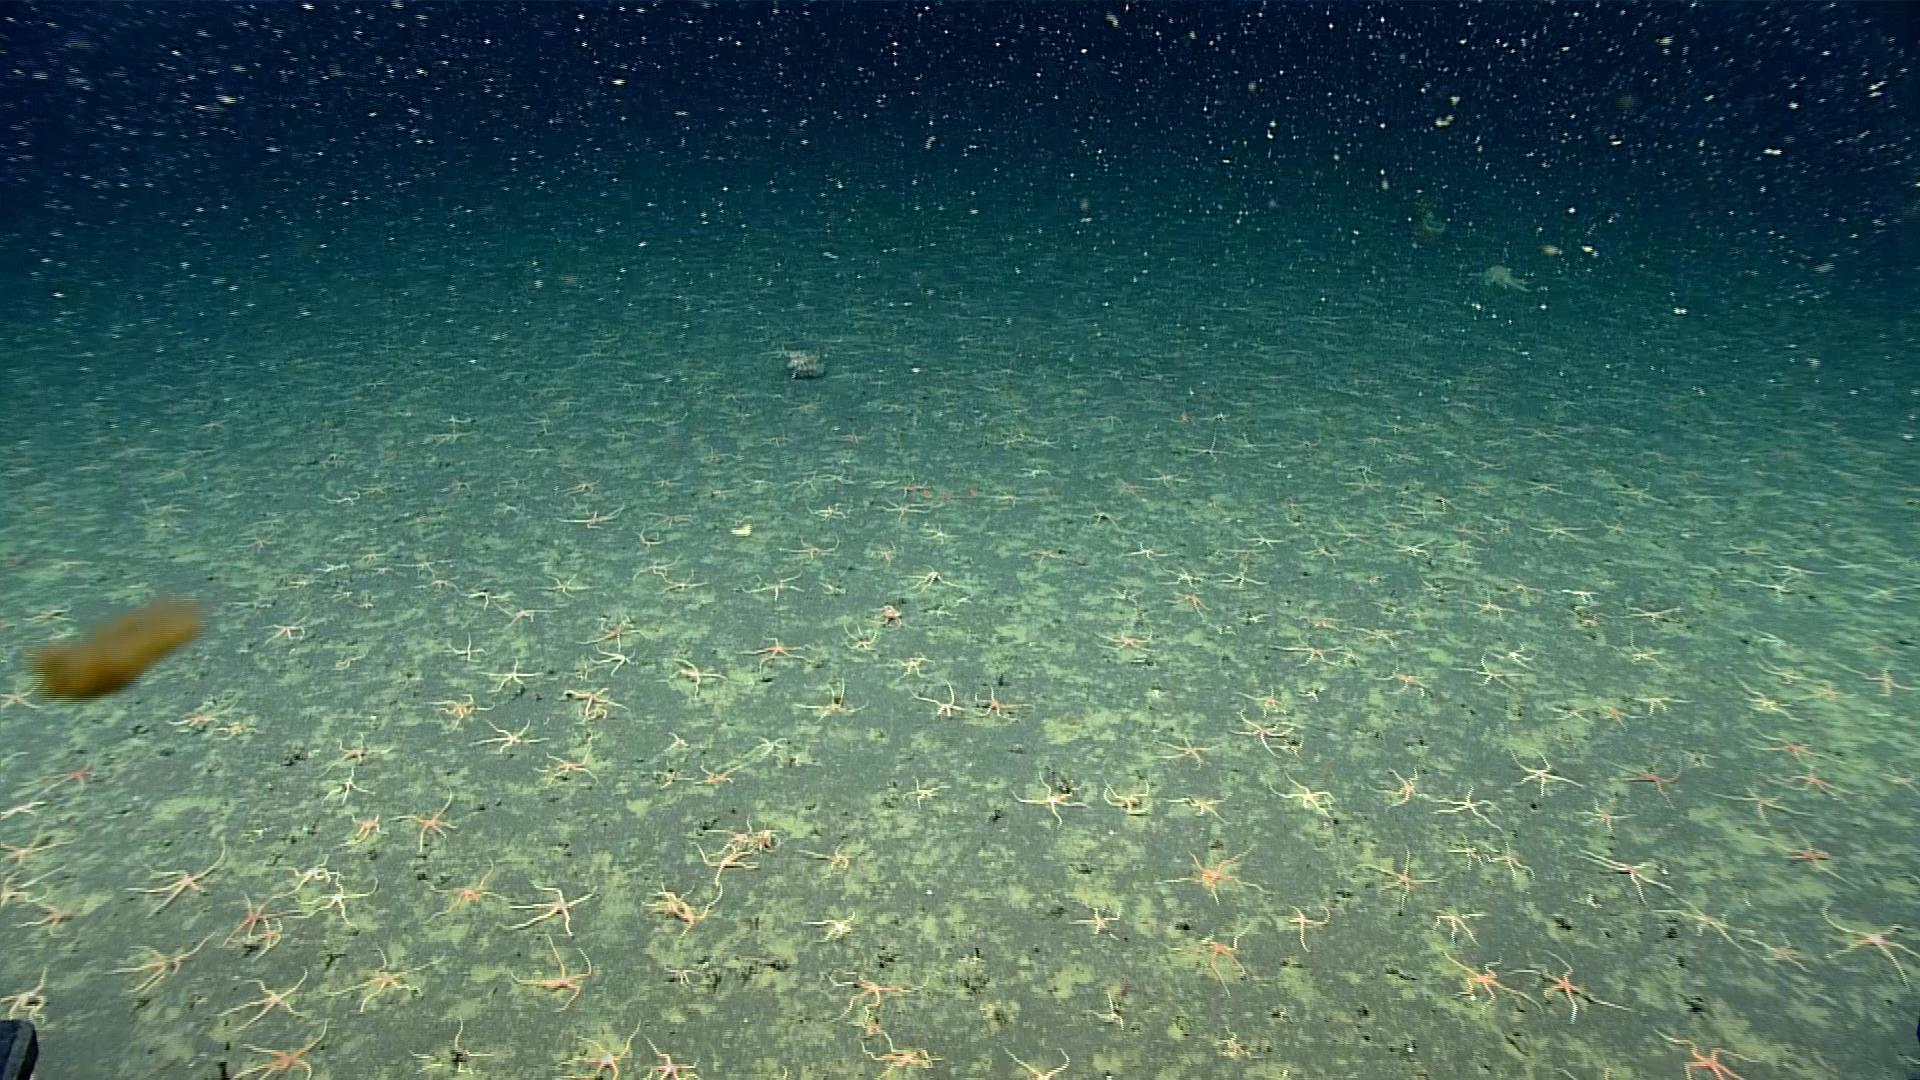brittle_sea_star: (1511, 945, 1633, 1022), (1808, 901, 1919, 980), (326, 943, 444, 1015), (124, 839, 229, 915), (107, 934, 215, 996), (509, 938, 595, 1014), (1154, 849, 1265, 905), (231, 1018, 330, 1079), (1763, 824, 1855, 887), (1576, 848, 1675, 906), (218, 967, 310, 1029), (500, 877, 596, 935), (1441, 957, 1539, 1014), (1656, 1026, 1759, 1079), (1655, 891, 1755, 945), (814, 969, 910, 1023), (1180, 926, 1253, 996), (641, 876, 721, 938), (407, 1017, 495, 1073), (426, 858, 501, 923), (556, 1021, 640, 1079), (1013, 769, 1092, 828), (1356, 851, 1436, 909), (1709, 782, 1813, 824), (389, 787, 456, 852), (857, 1029, 945, 1077), (291, 878, 378, 926), (222, 891, 284, 957), (1499, 750, 1585, 796), (692, 829, 756, 889), (1617, 757, 1684, 810), (791, 676, 864, 725), (1837, 655, 1916, 699), (1270, 769, 1338, 815), (469, 715, 545, 756), (0, 965, 55, 1019), (1230, 707, 1291, 756), (479, 654, 550, 695), (1433, 783, 1499, 827), (1365, 767, 1432, 810), (276, 847, 334, 895), (423, 692, 492, 733), (560, 683, 626, 725), (1751, 728, 1826, 765), (1453, 654, 1523, 694), (1750, 934, 1813, 977), (533, 748, 600, 789), (529, 567, 600, 605), (996, 1044, 1075, 1079), (638, 1035, 700, 1079), (735, 636, 807, 673), (1428, 907, 1493, 948), (0, 862, 54, 911), (34, 761, 95, 800), (1273, 637, 1341, 671), (0, 831, 65, 866), (806, 907, 861, 948), (1787, 766, 1849, 802), (799, 836, 855, 876), (657, 658, 716, 695), (1159, 731, 1215, 770), (911, 680, 964, 721), (737, 729, 799, 764), (316, 767, 372, 806), (1166, 787, 1229, 820), (721, 818, 781, 852), (12, 905, 71, 939), (1286, 905, 1331, 949), (1567, 799, 1627, 832), (969, 687, 1027, 721), (1237, 682, 1294, 716), (559, 504, 626, 531), (1071, 905, 1124, 939), (166, 700, 219, 735), (1489, 845, 1535, 884), (0, 670, 51, 704), (323, 732, 376, 765), (576, 616, 633, 646), (1617, 637, 1668, 670), (1095, 626, 1154, 654), (1101, 782, 1150, 815), (1447, 837, 1491, 873), (899, 775, 945, 810), (584, 622, 636, 653), (779, 537, 841, 562), (1236, 522, 1286, 553), (748, 574, 802, 601), (1120, 535, 1174, 562), (1462, 591, 1514, 618), (1377, 662, 1418, 696), (345, 811, 384, 847), (1092, 990, 1126, 1030), (1162, 587, 1213, 613), (1495, 637, 1536, 670), (1631, 691, 1691, 713), (889, 651, 934, 680), (839, 624, 880, 655), (1159, 563, 1205, 591), (498, 603, 551, 626), (752, 1051, 795, 1079), (0, 796, 50, 820), (214, 717, 264, 741), (462, 585, 509, 611), (1751, 576, 1797, 601), (1633, 603, 1681, 625), (262, 617, 305, 642), (626, 558, 673, 580), (1883, 864, 1919, 893), (1597, 703, 1634, 731), (694, 765, 738, 787), (911, 564, 948, 591), (1878, 765, 1913, 791), (1221, 566, 1261, 588), (873, 605, 909, 629), (451, 634, 480, 662), (915, 525, 956, 542), (1389, 541, 1432, 556), (661, 728, 688, 750), (654, 767, 684, 786)
